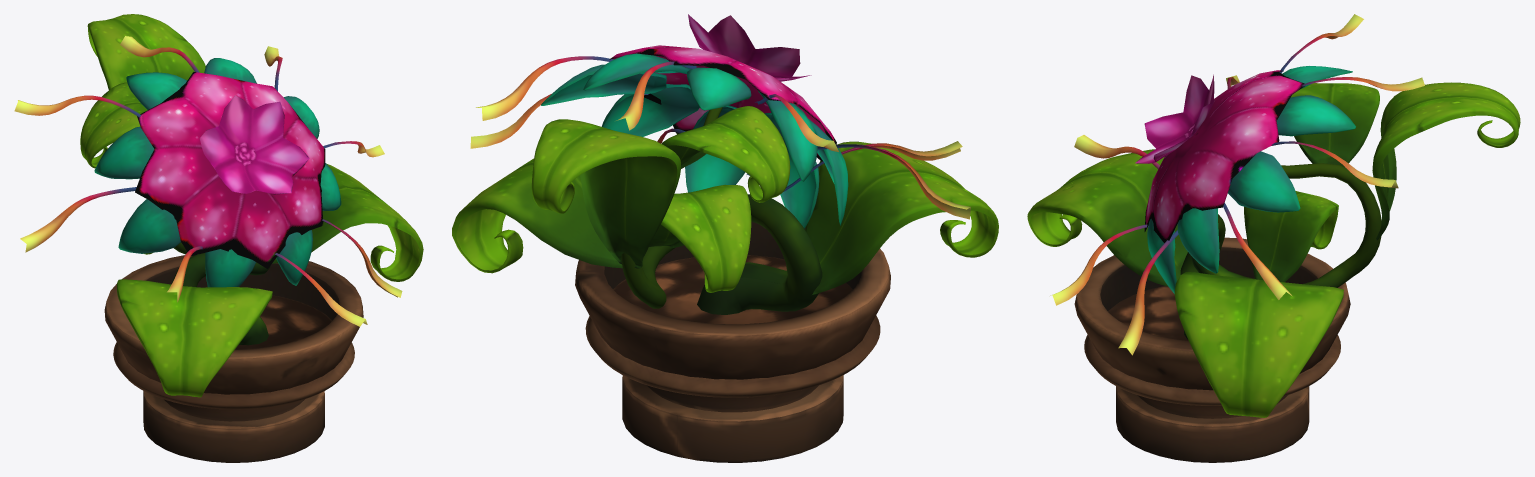
The model's file is stylized-flower-in-a-vase-9aedd7.glb.
3 renders of one model, left to right at view 1: azimuth 30°, elevation 25°; view 2: azimuth 150°, elevation 25°; view 3: azimuth 270°, elevation 25°, orthographic. The views are drawn at different scales.
Visible parts, largest first — view 1: PropMesh; view 2: PropMesh; view 3: PropMesh.
Boxes of the visible parts, bbox=[...] form: PropMesh: bbox=[14, 14, 423, 462]; PropMesh: bbox=[452, 14, 998, 462]; PropMesh: bbox=[1027, 14, 1520, 462].
Bounding box in the file's own units: 0.7624 × 0.6 × 0.7669.
1 material, 1 textured.
